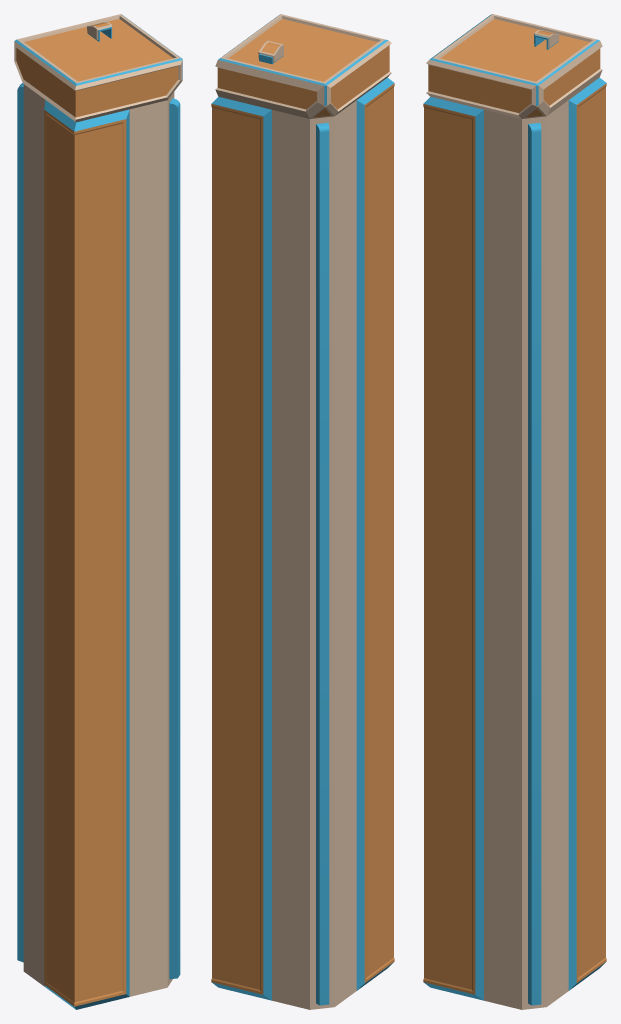
The model's file is Building.fbx.
3 views of the same model, side by side, from view 1: azimuth 30°, elevation 25°; view 2: azimuth 150°, elevation 25°; view 3: azimuth 330°, elevation 25° (orthographic).
Parts seen in each view (by area): view 1: Building; view 2: Building, SpawnPoint; view 3: Building.
Part boxes in pixels (x1,y1,x2,y2): Building: (14,14,182,1009); Building: (211,14,394,1009); SpawnPoint: (258,40,283,64); Building: (423,14,606,1009).
Size of the model in its own units: 21.68 by 167 by 21.68.
